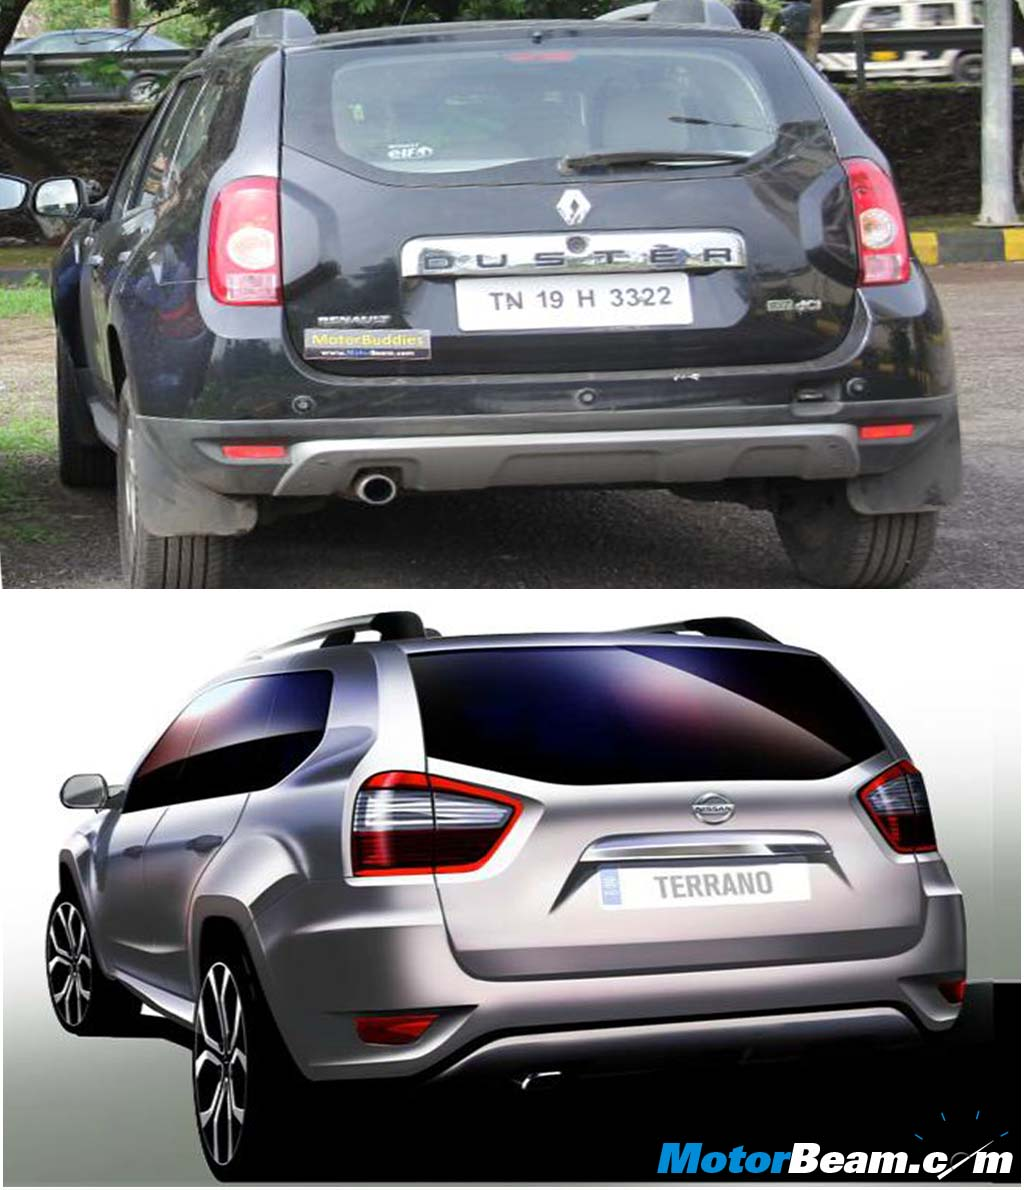number_plate: (456, 272, 713, 328)
